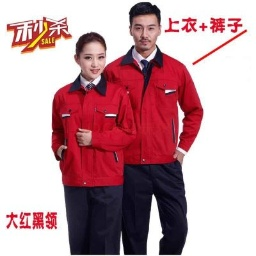face: (129, 1, 163, 53), (72, 31, 107, 80)
